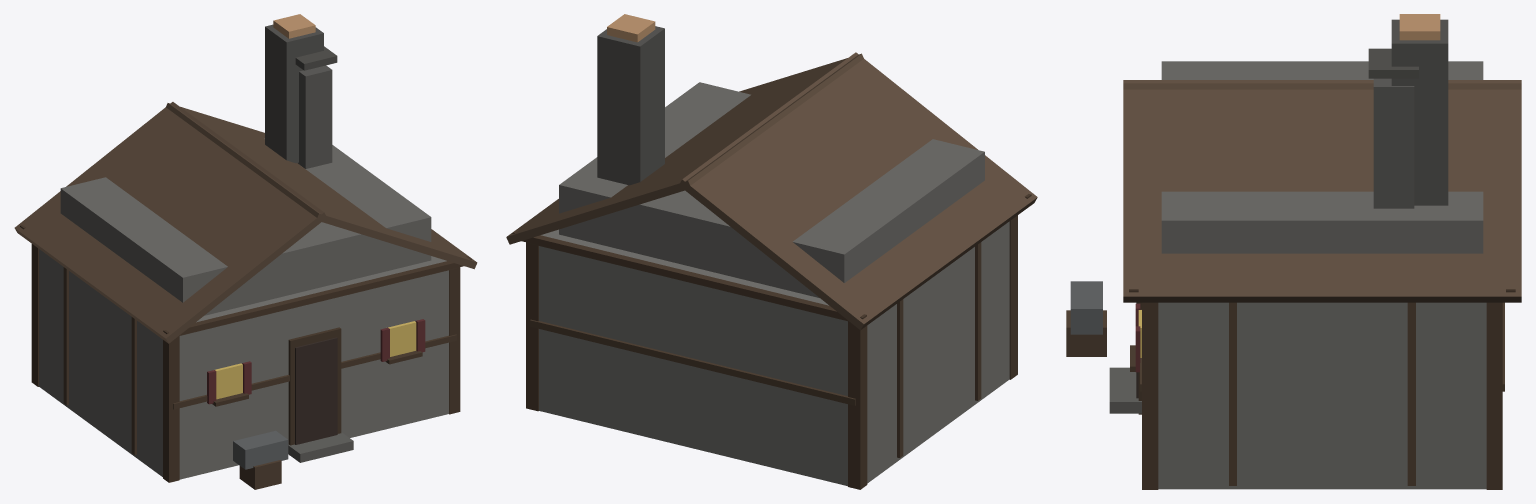
File: smithy.glb
3 renders of one model, left to right at view 1: azimuth 30°, elevation 25°; view 2: azimuth 150°, elevation 25°; view 3: azimuth 270°, elevation 25°, orthographic. The views are drawn at different scales.
Visible parts, largest first — view 1: smithy; view 2: smithy; view 3: smithy.
Part boxes in pixels (box(x1,y1,x2,y2)): smithy: box(14, 14, 477, 489); smithy: box(506, 14, 1037, 489); smithy: box(1066, 14, 1521, 489).
Size of the model in its own units: 5.82 by 5.85 by 5.6.
Materials: 1 (1 with a texture image).
